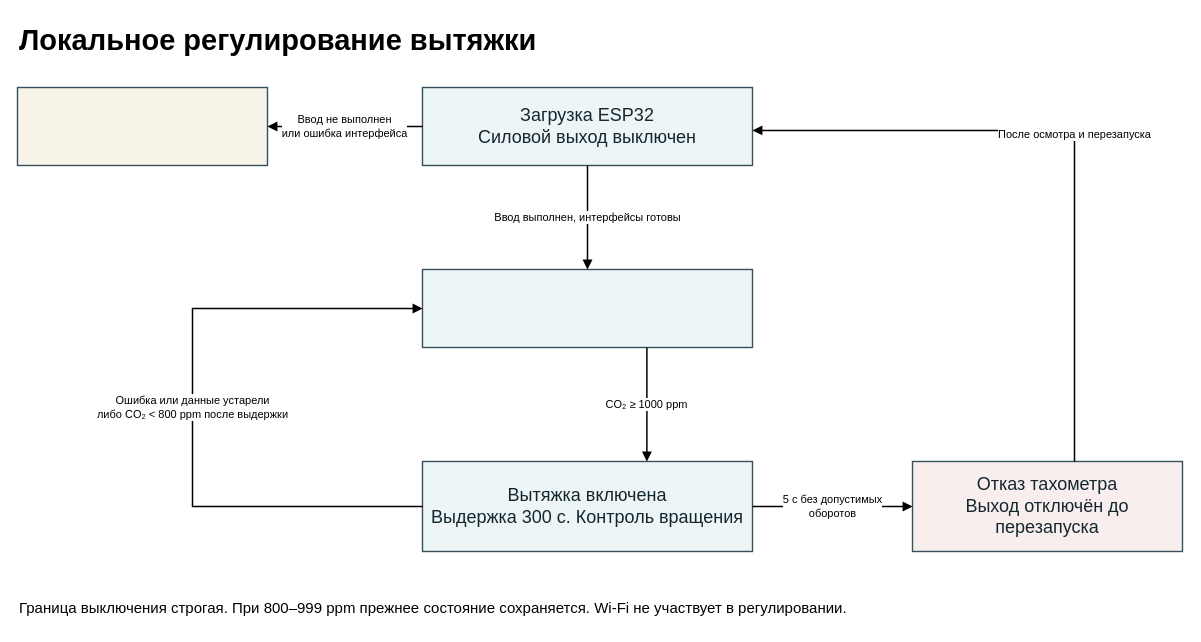
Image size: 1201x642. Some labels were removed from this diagram. The shapes that lost their labels are listed below. From the top down, each one's centre as x and y in pixels, then its label:
At point 142,126: "Выход заблокирован Доступна диагностика".
At point 587,308: "Выключено Ожидание достоверного CO₂".
